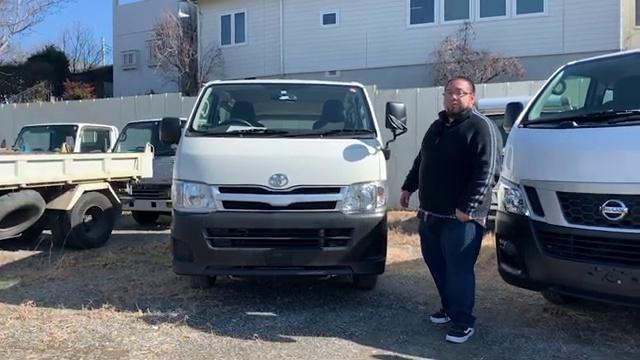van: (171, 74, 400, 285)
